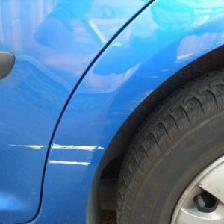door_scratch: (5, 113, 117, 183)
